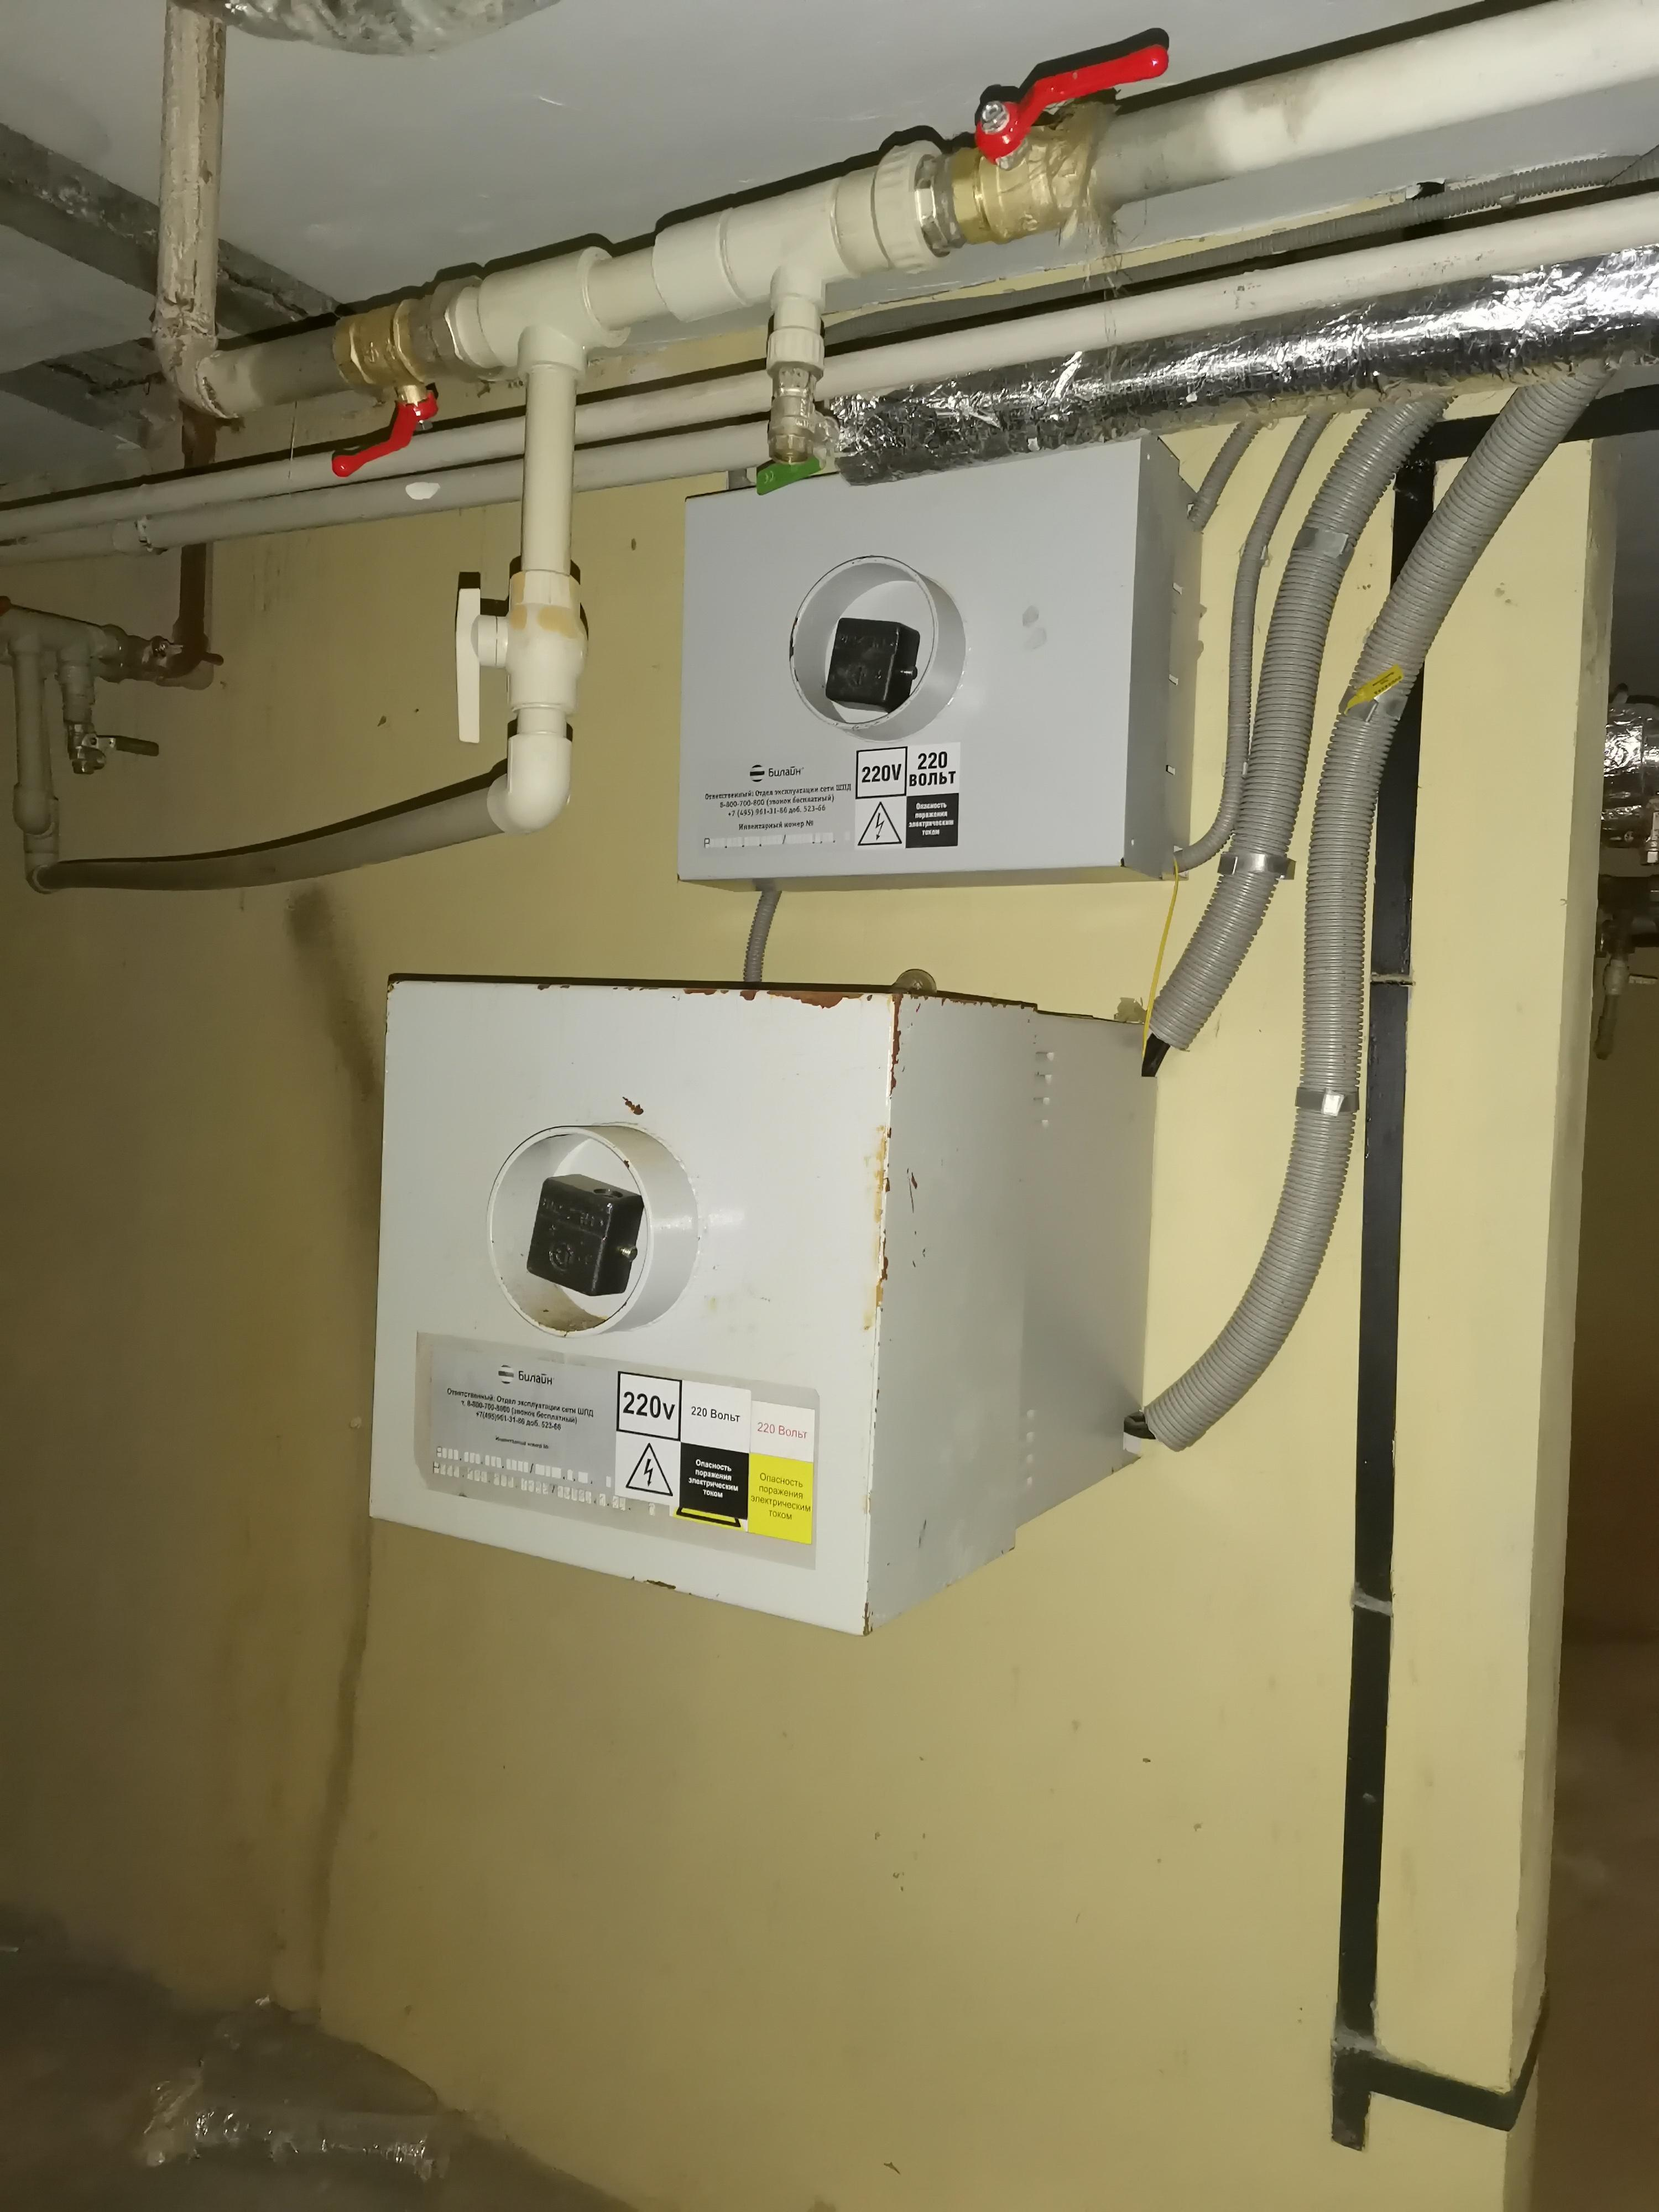shta-3: (666, 432, 1211, 899)
shta-9: (362, 974, 1166, 1646)
